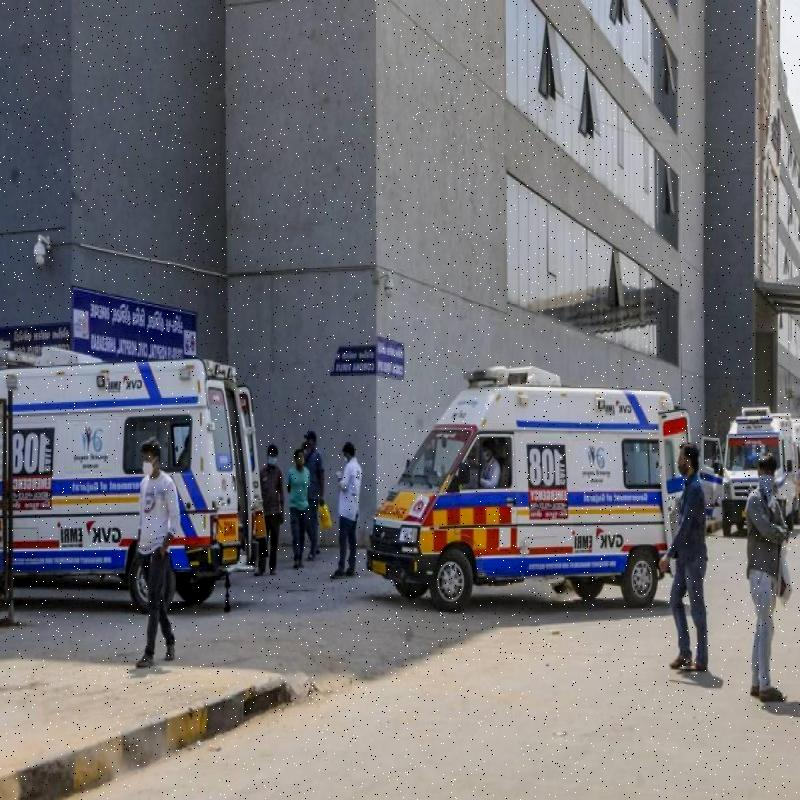ambulance: (392, 372, 683, 606)
